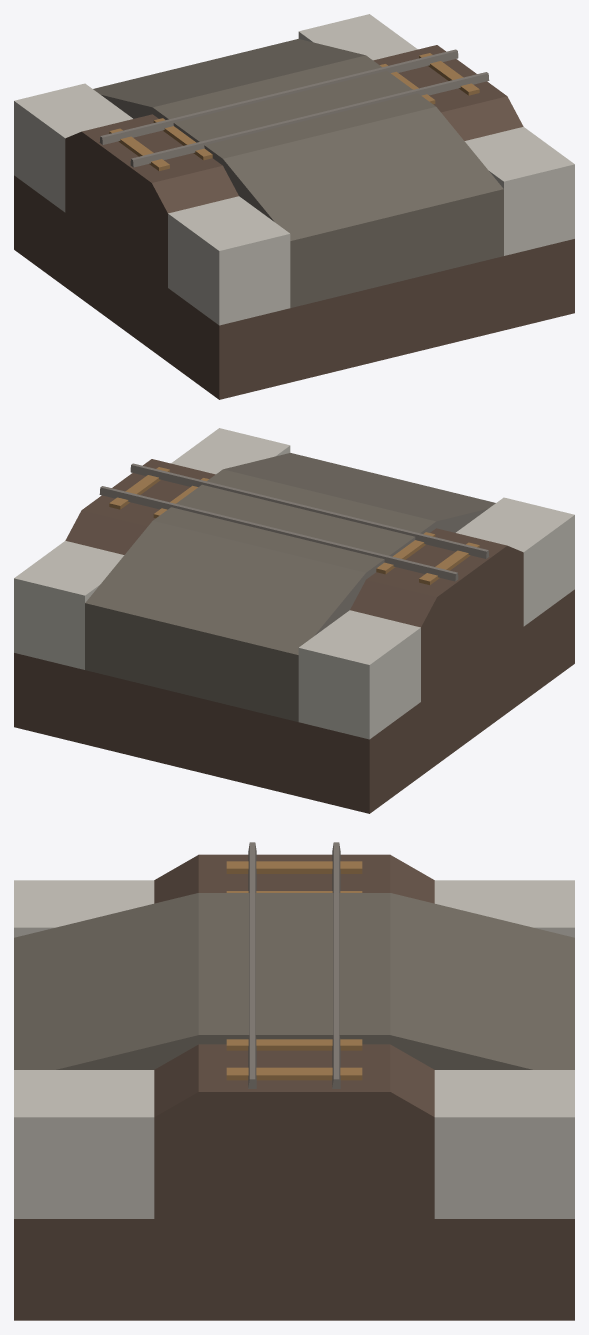
Rendered from rail-tile-road-crossing_small.fbx.
The picture shows the model from 3 angles, top to bottom: view 1: azimuth 30°, elevation 25°; view 2: azimuth 150°, elevation 25°; view 3: azimuth 270°, elevation 25°; orthographic projection. The views are drawn at different scales.
Parts seen in each view (by area): view 1: rail-tile-road-crossing_small; view 2: rail-tile-road-crossing_small; view 3: rail-tile-road-crossing_small.
Boxes of the visible parts, x1,y1,x2,y2 form: rail-tile-road-crossing_small: [14, 14, 574, 399]; rail-tile-road-crossing_small: [14, 428, 574, 813]; rail-tile-road-crossing_small: [14, 842, 574, 1320].
Size of the model in its own units: 1000 by 475 by 1000.
